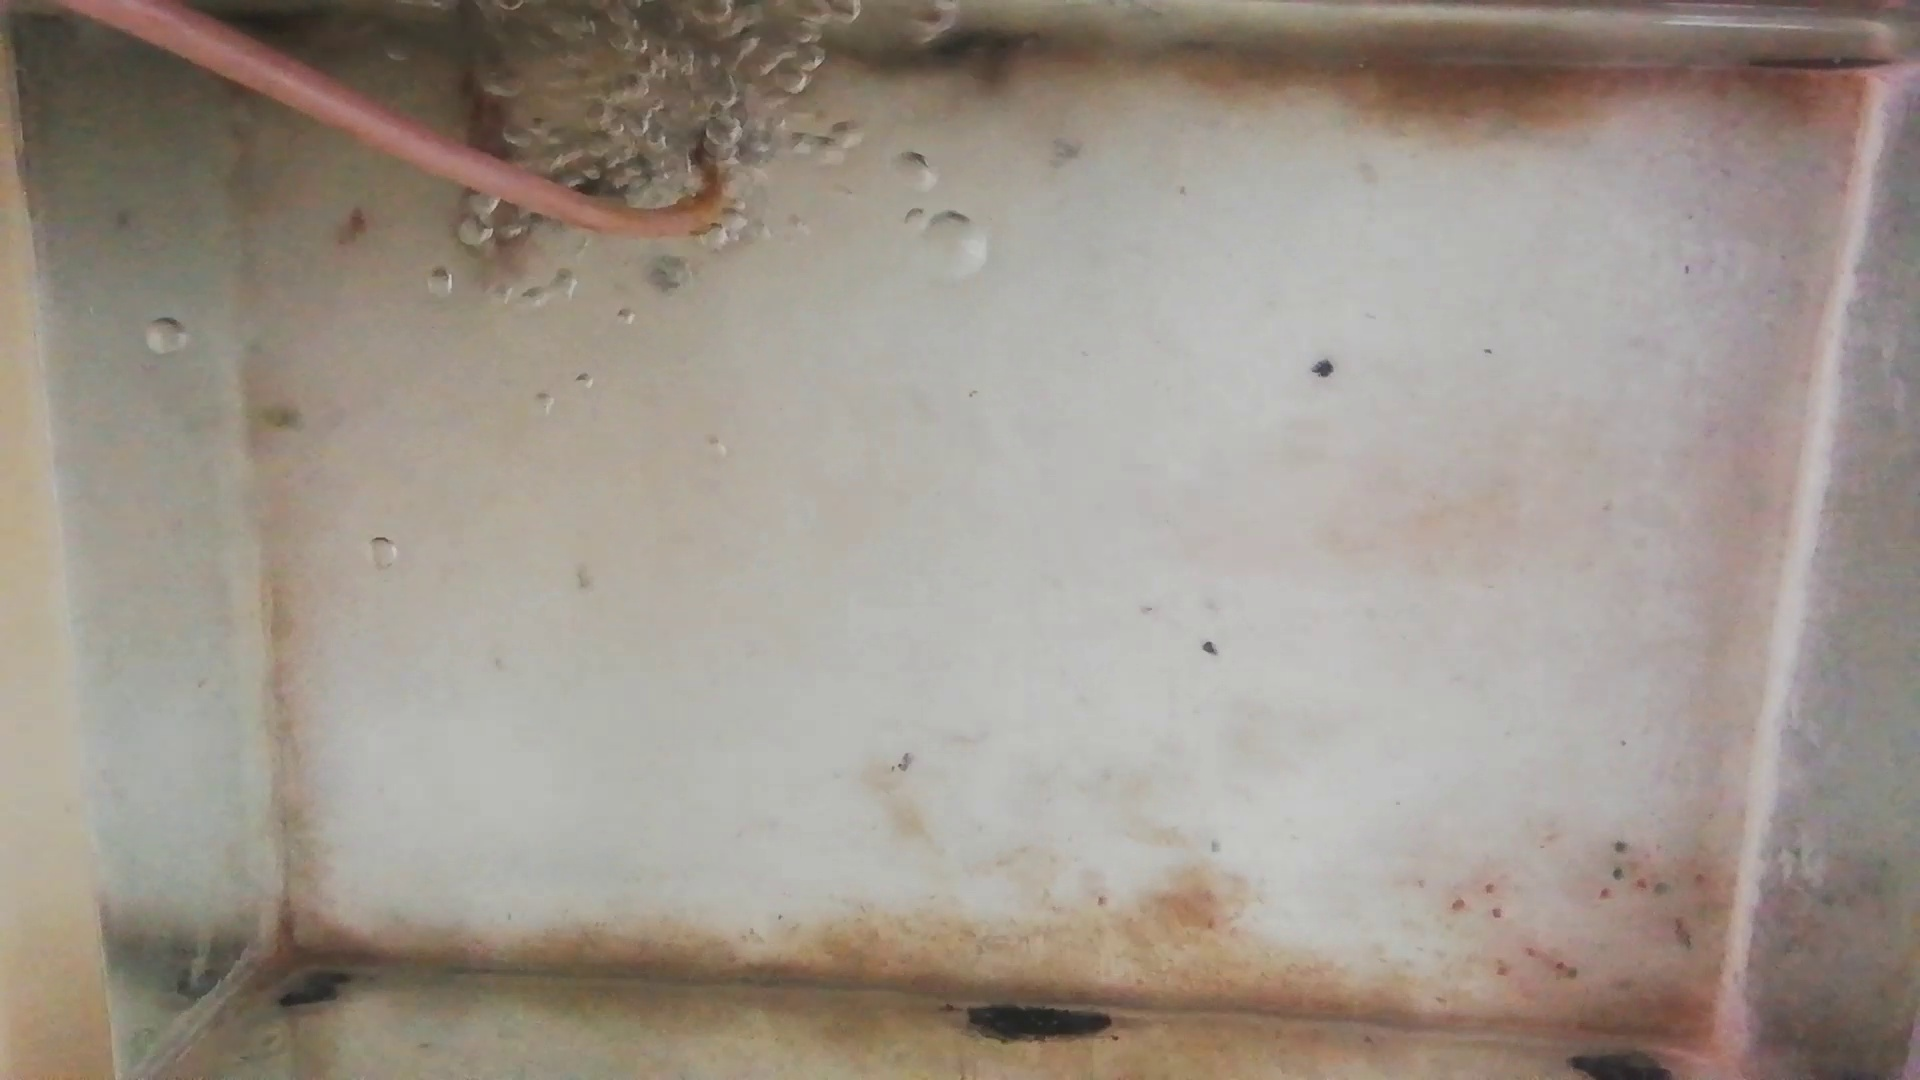fish: (456, 17, 516, 284), (555, 152, 670, 206)
